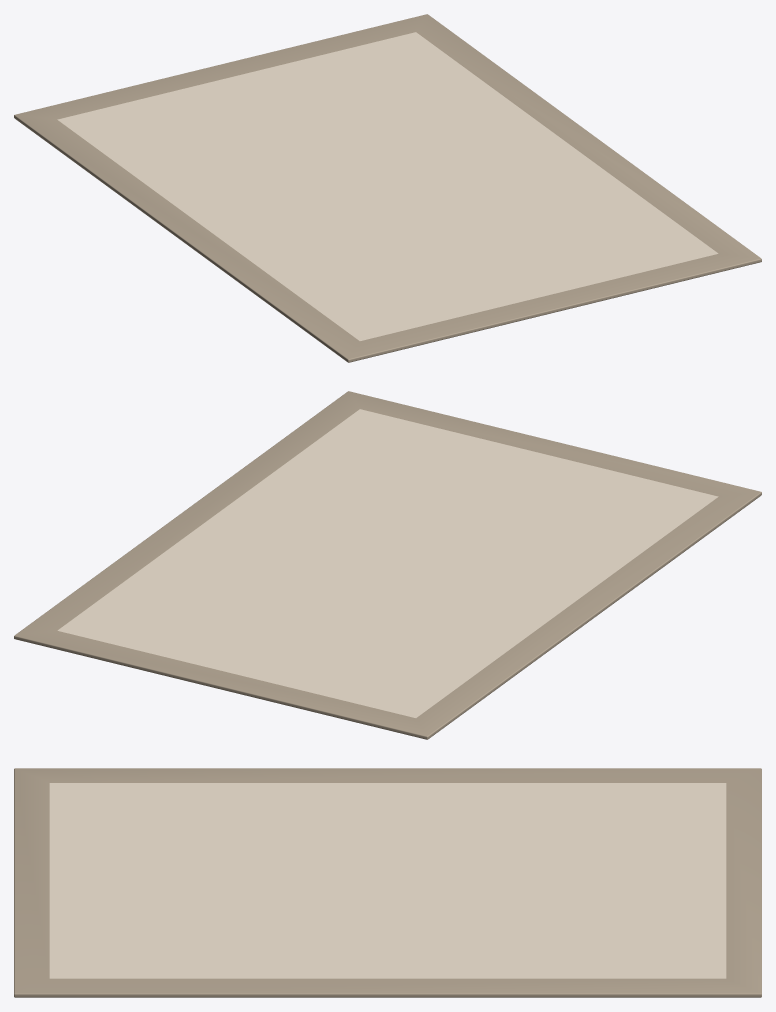
The picture shows the model from 3 angles, top to bottom: view 1: azimuth 30°, elevation 25°; view 2: azimuth 150°, elevation 25°; view 3: azimuth 270°, elevation 25°; orthographic projection. The views are drawn at different scales.
Parts seen in each view (by area): view 1: F011; view 2: F011; view 3: F011.
Part boxes in pixels (x1,y1,x2,y2): F011: [14, 14, 761, 362]; F011: [14, 391, 761, 739]; F011: [14, 768, 761, 997].
Size of the model in its own units: 1.52 by 0.0127 by 2.13.
